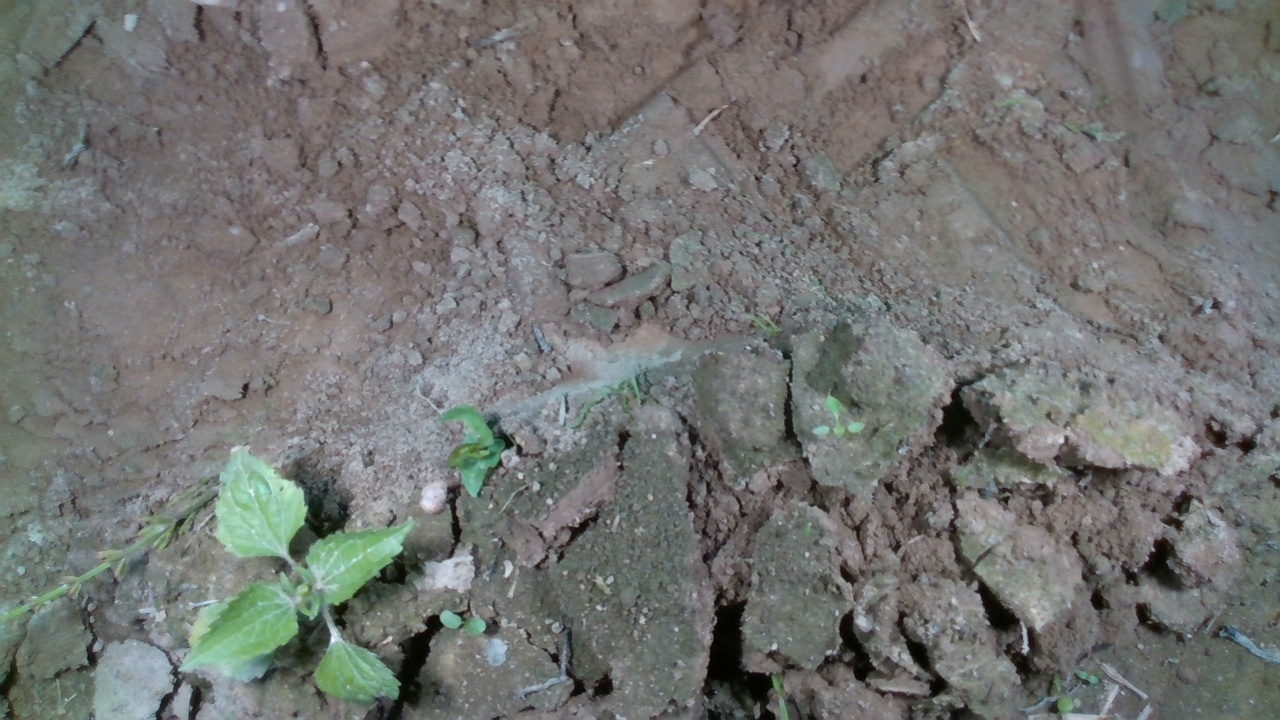weed: (809, 394, 867, 437), (438, 608, 488, 637), (1075, 668, 1101, 685)
